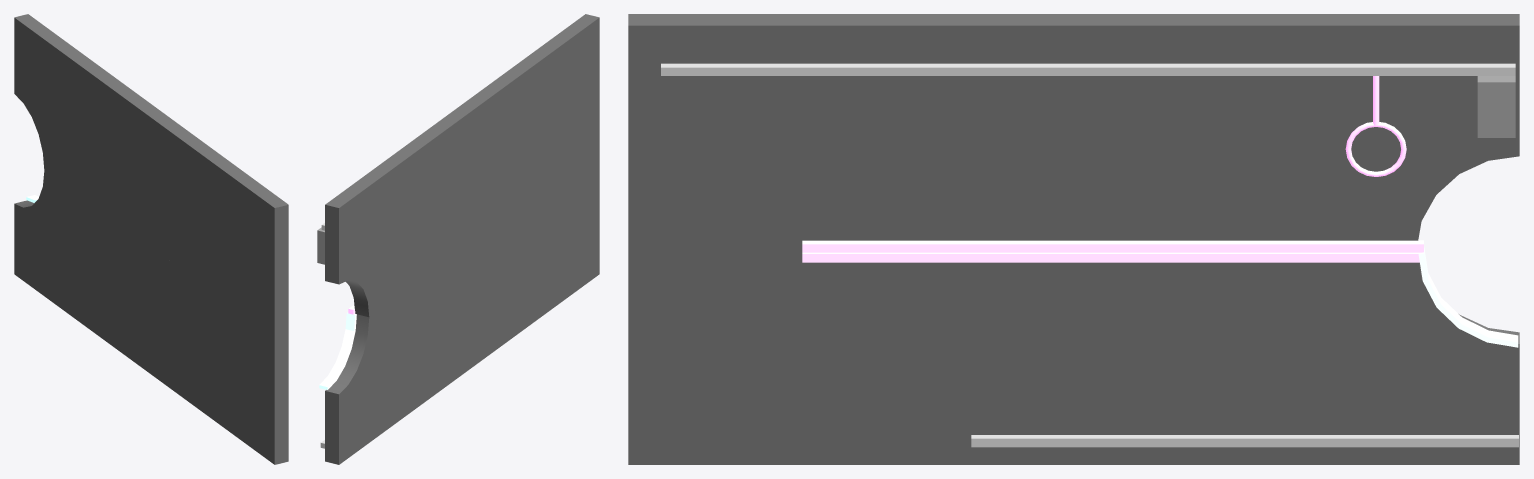
Rendered from leftDoor.gltf.
3 renders of one model, left to right at view 1: azimuth 30°, elevation 25°; view 2: azimuth 150°, elevation 25°; view 3: azimuth 270°, elevation 25°, orthographic. The views are drawn at different scales.
Visible parts, largest first — view 1: pCube72; view 2: pCube72; view 3: pCube72.
Part boxes in pixels (x1,y1,x2,y2): pCube72: [14, 14, 288, 464]; pCube72: [317, 14, 599, 464]; pCube72: [628, 14, 1519, 464].
Bounding box in the file's own units: 0.0119 × 0.1272 × 0.2339.
